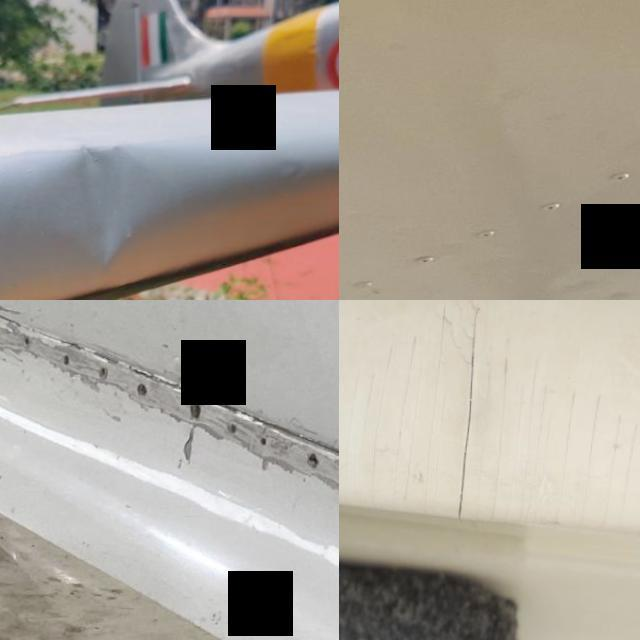Crack: (105, 337, 339, 447), (508, 359, 553, 528), (425, 303, 450, 516), (458, 303, 479, 525), (370, 340, 396, 509), (395, 331, 423, 484), (491, 350, 513, 528), (554, 384, 581, 529), (581, 393, 607, 528), (604, 412, 628, 532)
Dent: (36, 130, 171, 284)
